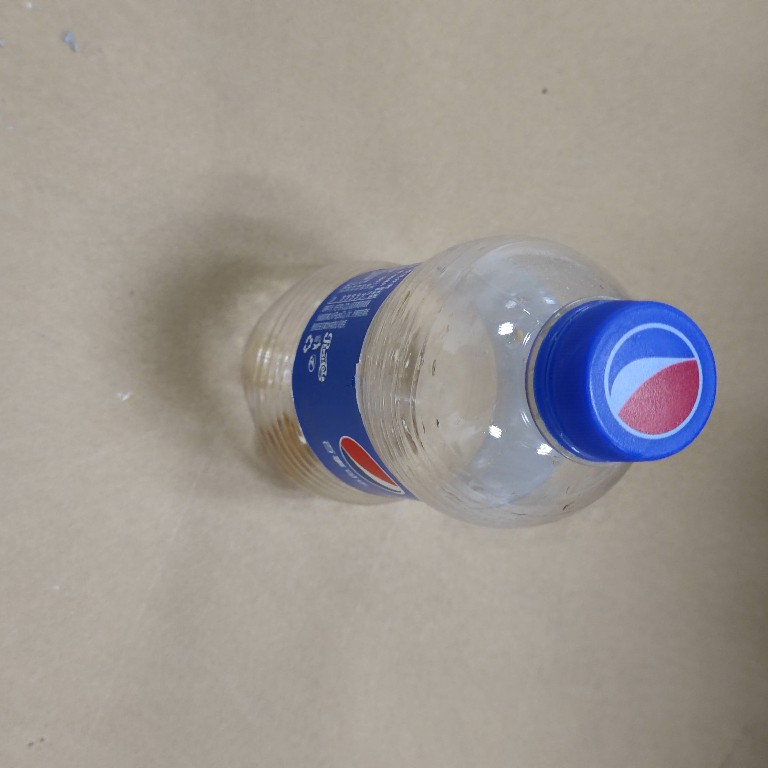bottle: (236, 227, 723, 535)
